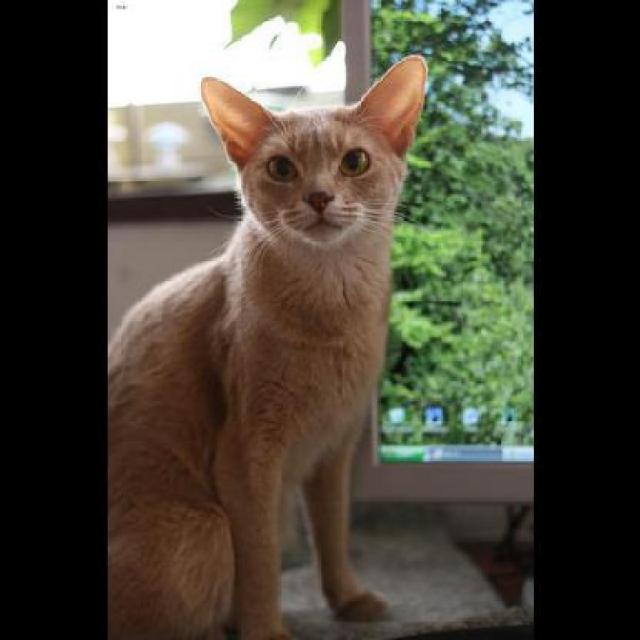unauthorized: (106, 52, 429, 638)
